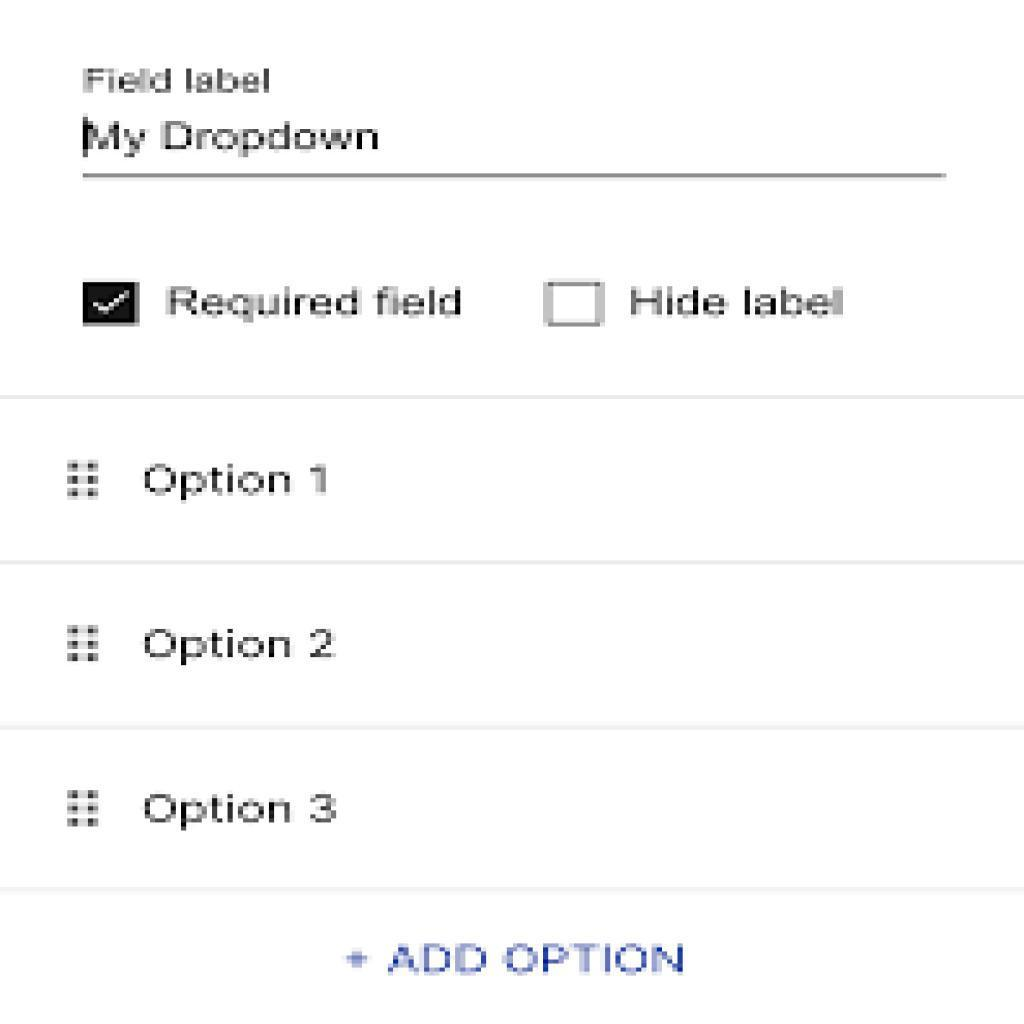checkbox: (546, 282, 607, 329), (83, 281, 142, 326)
icon: (65, 784, 105, 836), (62, 622, 106, 669), (64, 454, 104, 504)
label: (167, 280, 466, 325), (628, 281, 850, 325)
